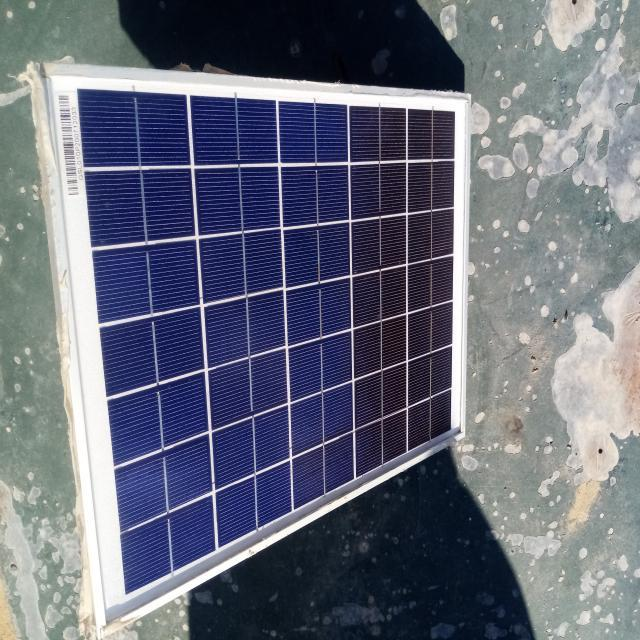no faulty: (38, 72, 472, 632)
